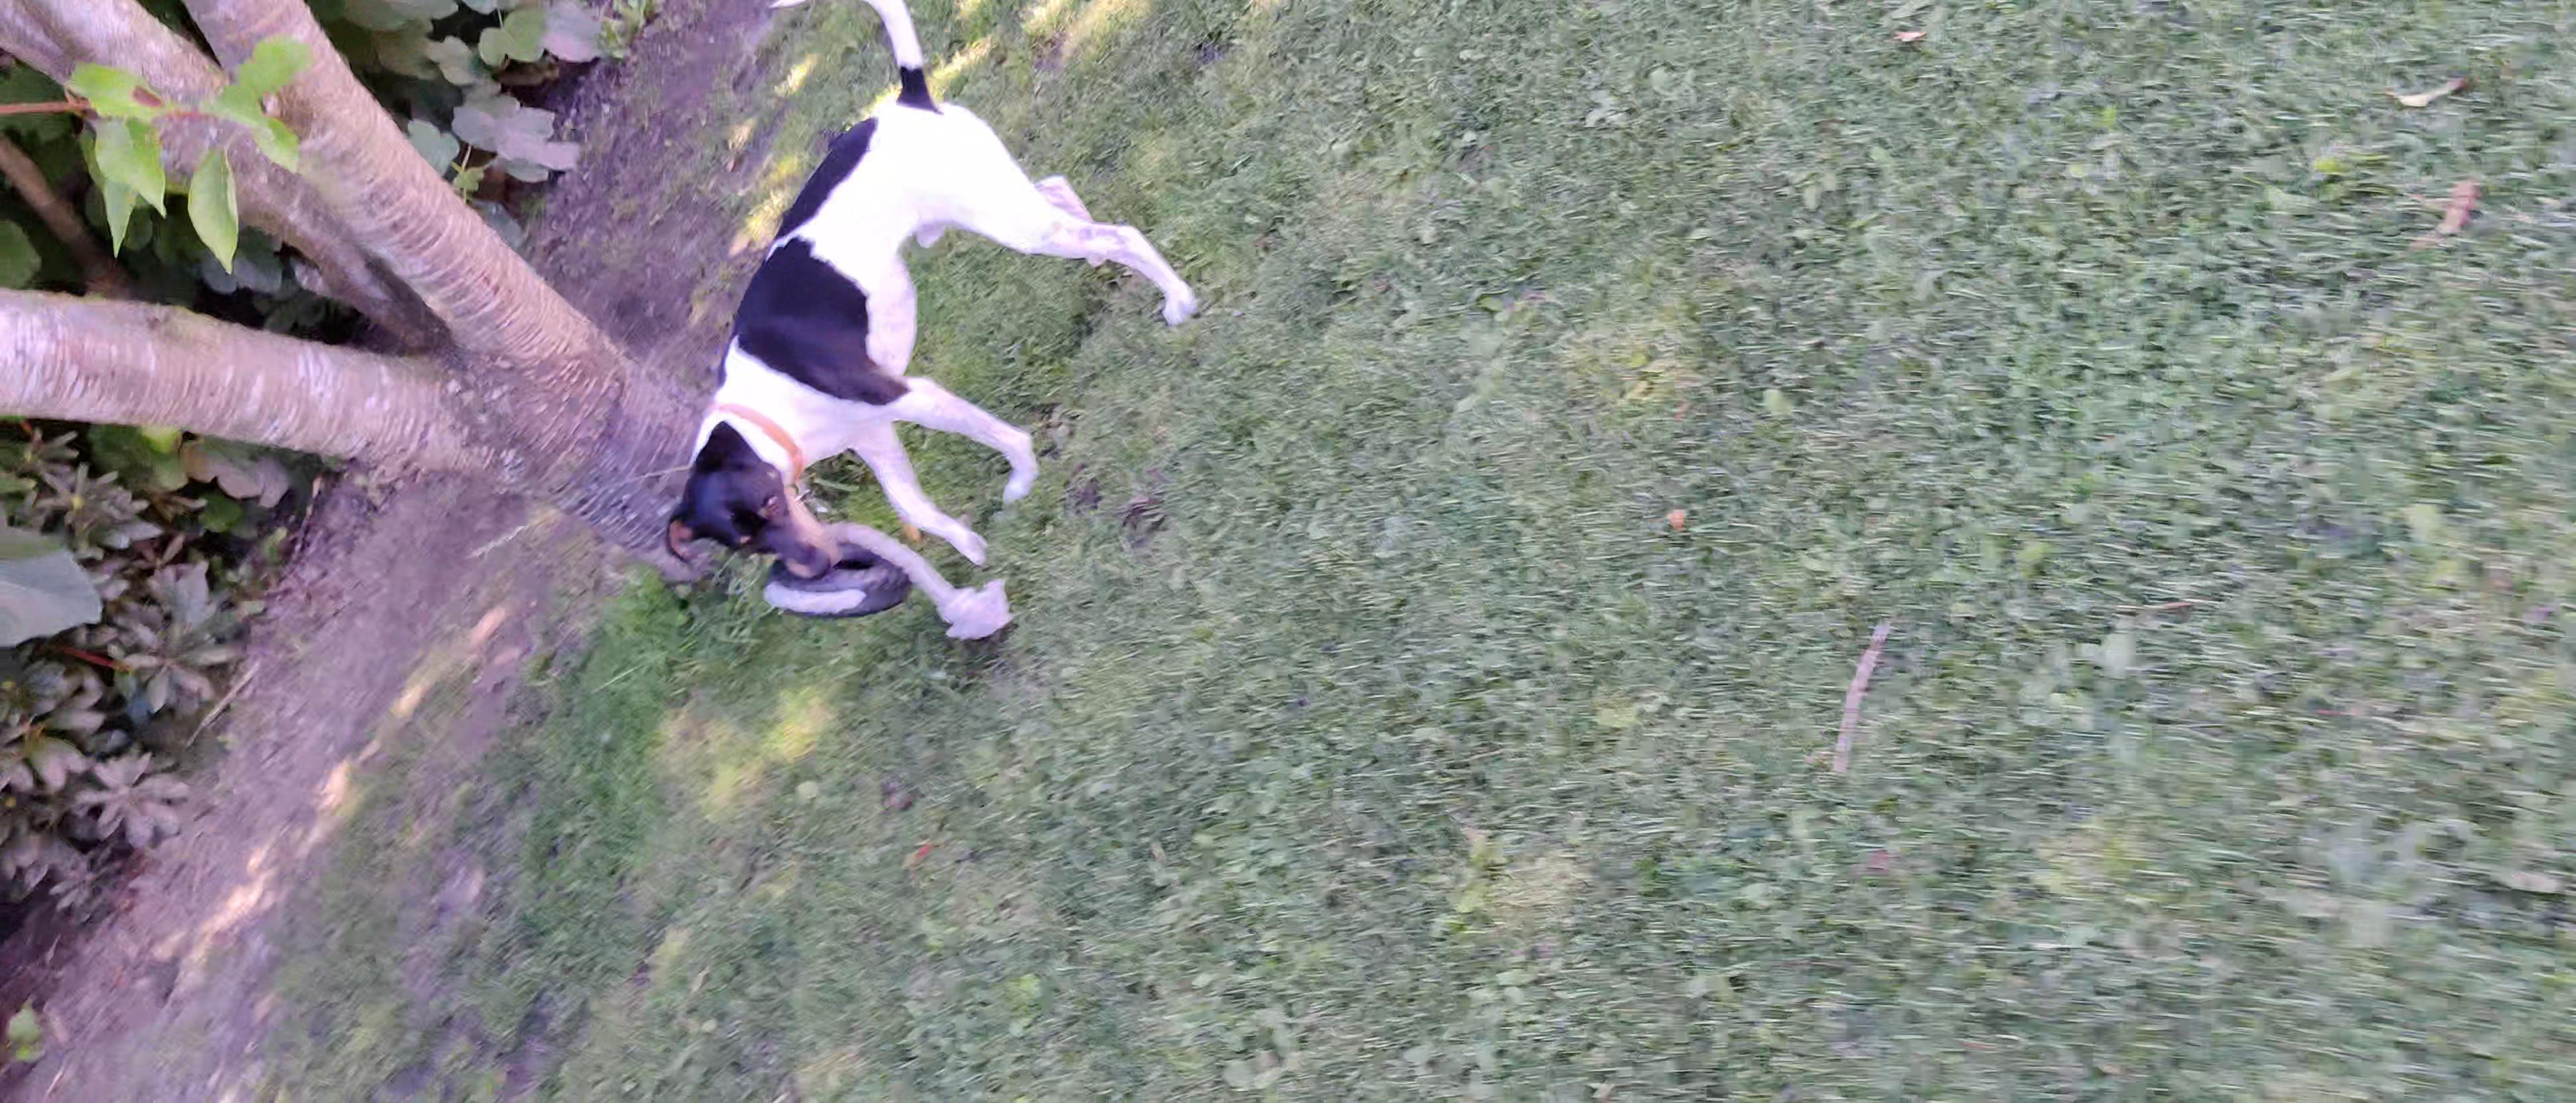Dog: (641, 0, 1214, 592)
